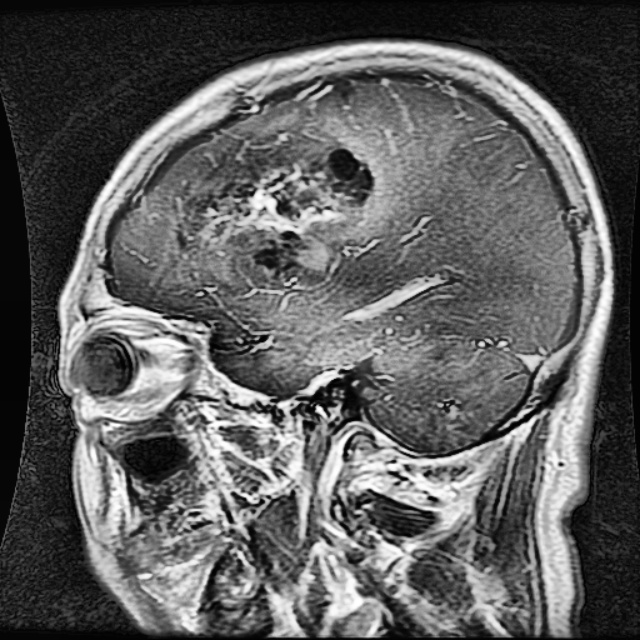Meningioma: (195, 144, 377, 268)
